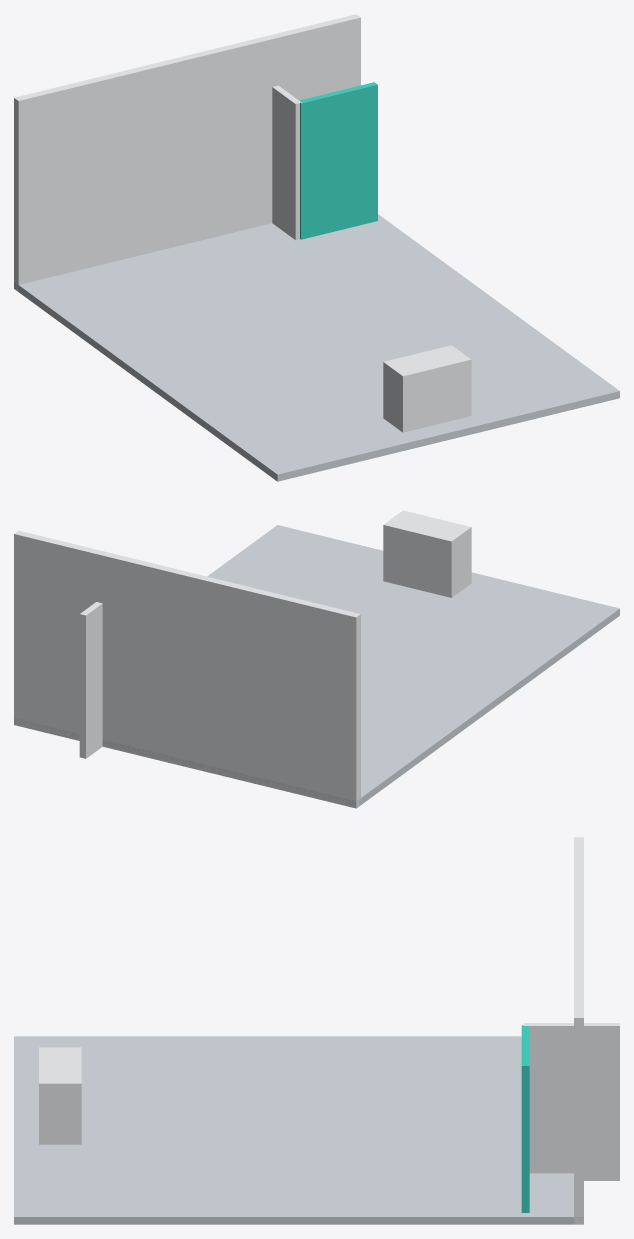
The picture shows the model from 3 angles, top to bottom: view 1: azimuth 30°, elevation 25°; view 2: azimuth 150°, elevation 25°; view 3: azimuth 270°, elevation 25°; orthographic projection. The views are drawn at different scales.
Parts seen in each view (by area): view 1: Exhibition Booth Concept; view 2: Exhibition Booth Concept; view 3: Exhibition Booth Concept.
Part boxes in pixels (x1,y1,x2,y2): Exhibition Booth Concept: [14, 14, 619, 481]; Exhibition Booth Concept: [14, 510, 619, 808]; Exhibition Booth Concept: [14, 837, 619, 1224].
Bounding box in the file's own units: 6 × 3.2 × 8.51.
